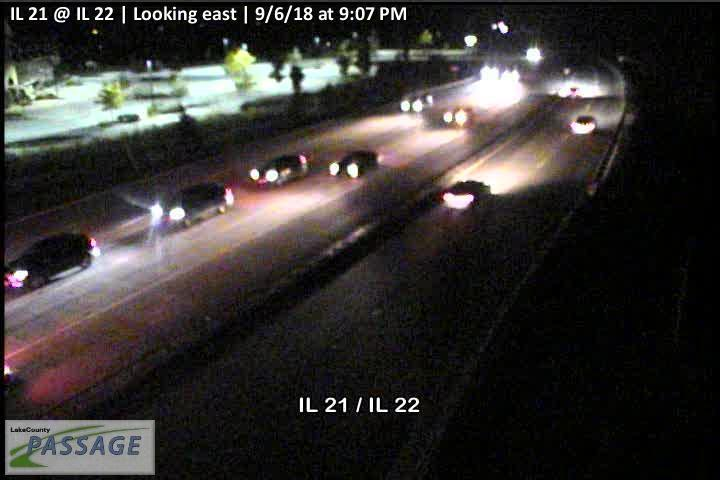Sedan: (4, 234, 99, 290), (150, 180, 233, 230), (328, 148, 383, 181), (250, 154, 306, 186), (442, 180, 491, 211)
